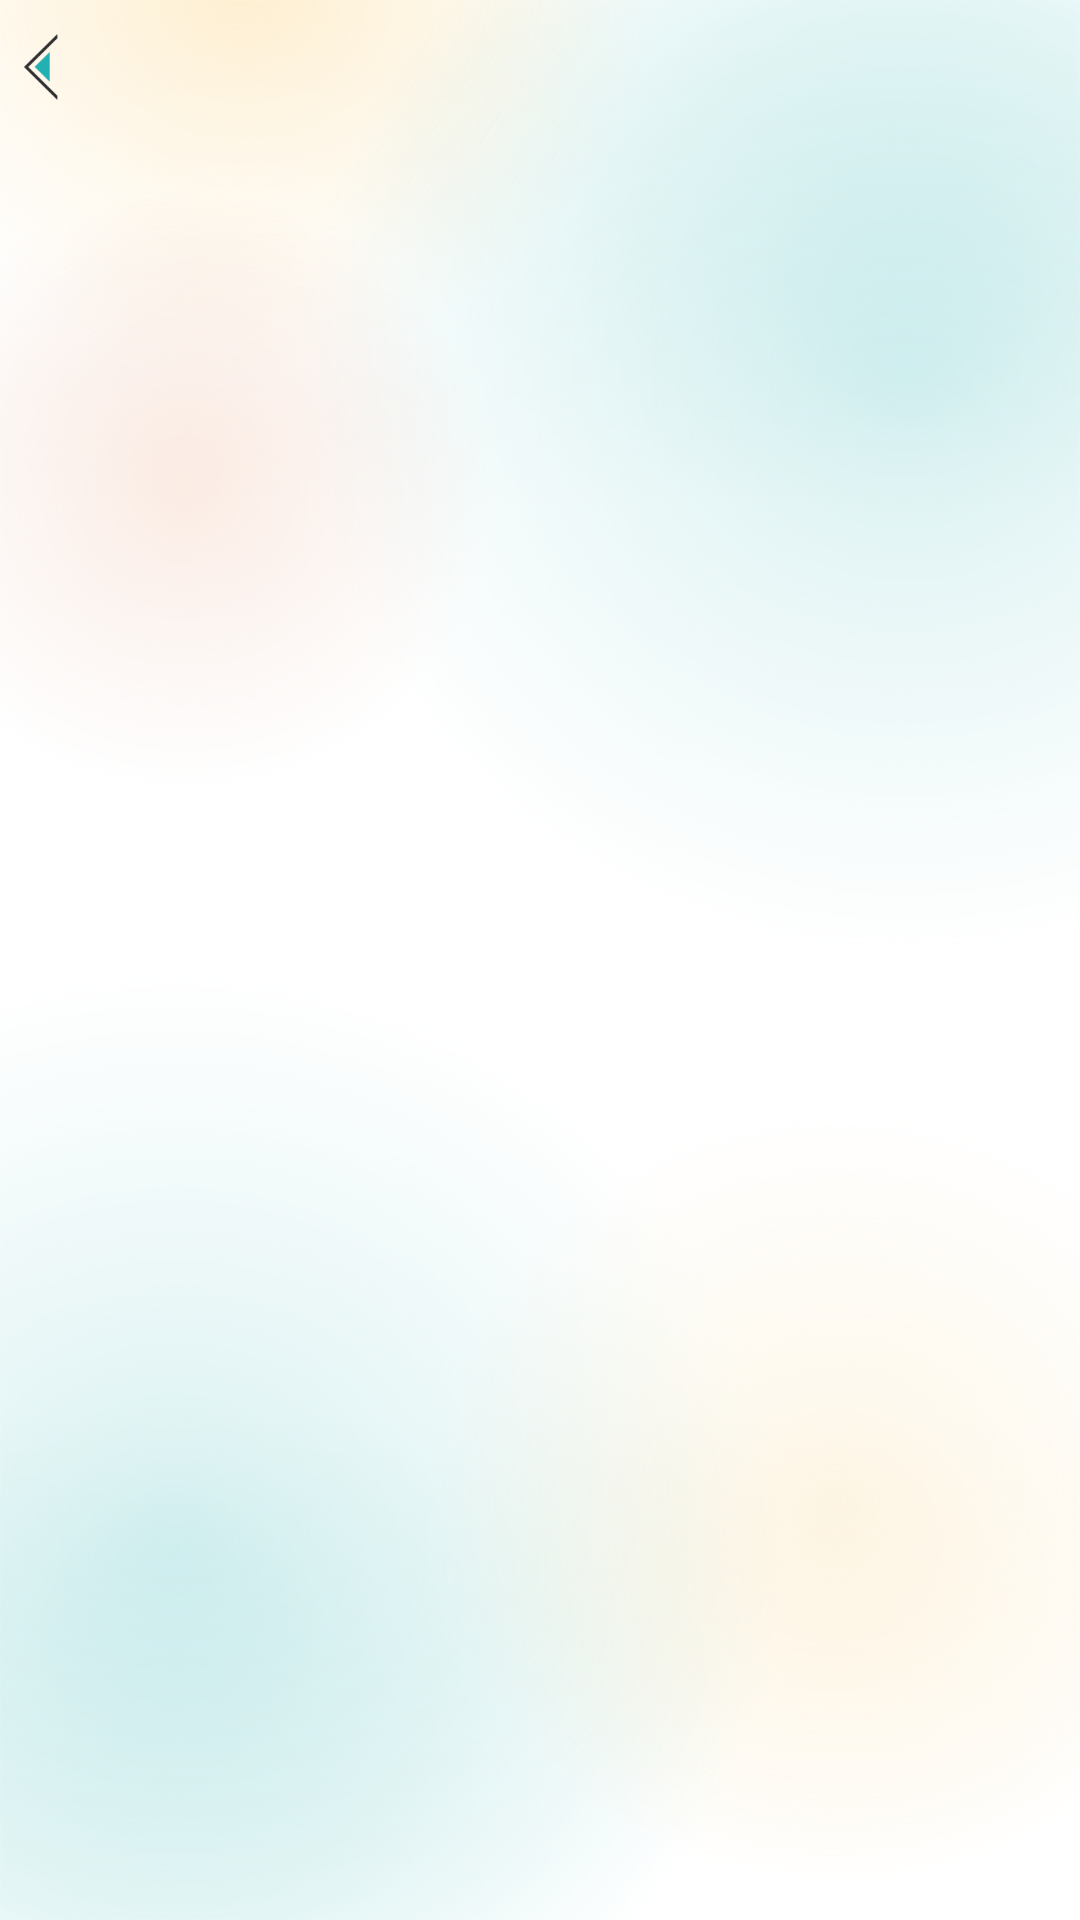

Icon bounding boxes for this 1080x1920 phone screenshot, format (x1, y1, x2, y2):
angle back: (24, 34, 58, 100)
